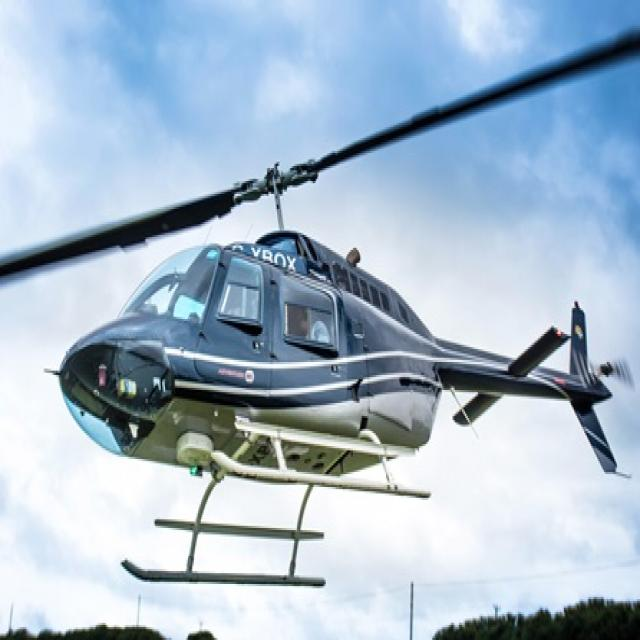helicopter: (2, 29, 637, 587)
